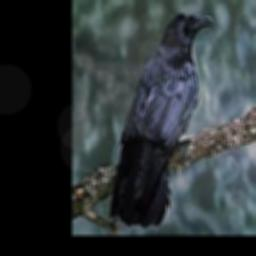Crow: (109, 12, 213, 228)
